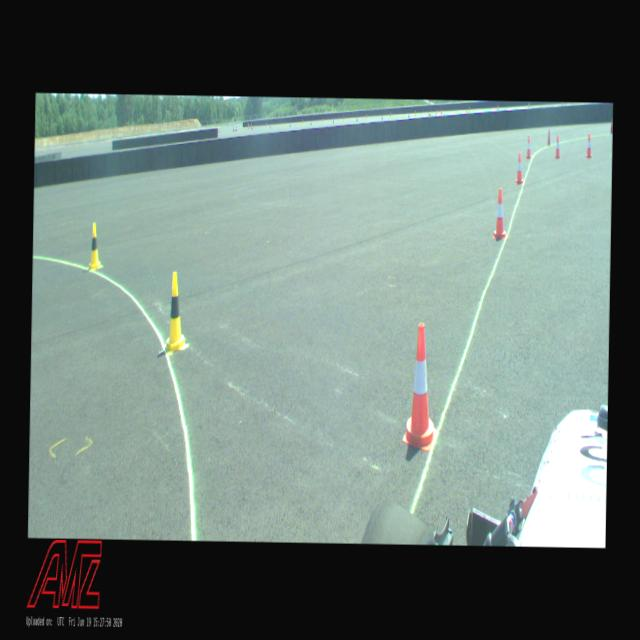orange_cone: (402, 322, 437, 450), (493, 188, 506, 238), (514, 152, 524, 183), (585, 134, 592, 157), (554, 135, 560, 158), (526, 136, 532, 158)
unknown_cone: (546, 128, 550, 144)
yellow_cone: (165, 271, 185, 351), (87, 222, 102, 270)
